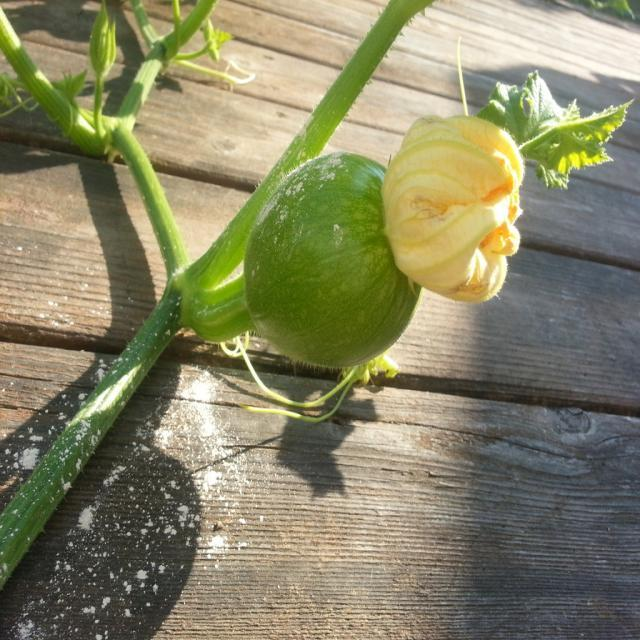Zucchini: (234, 151, 420, 377)
